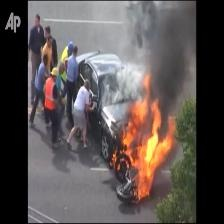fire: (109, 64, 177, 202)
